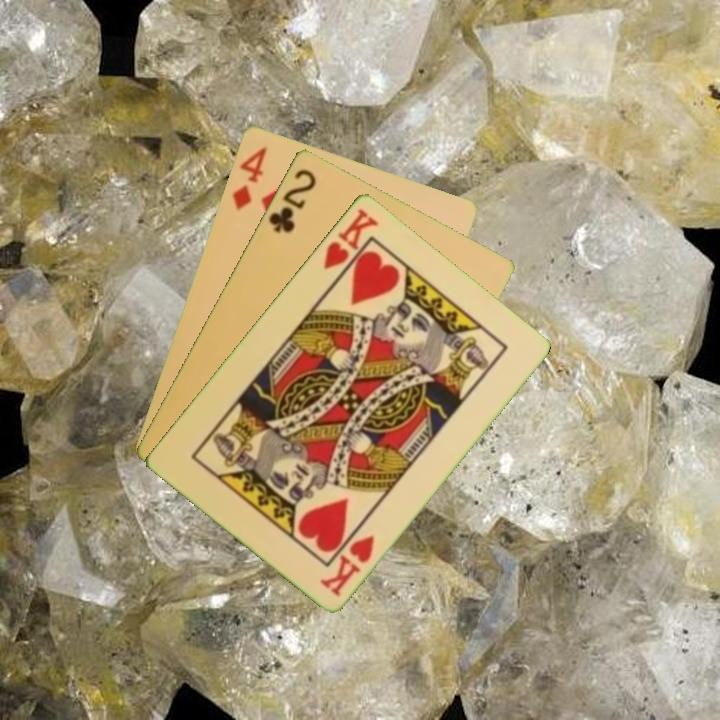2c: (264, 164, 319, 236)
4d: (228, 142, 270, 213)
Kh: (319, 204, 381, 285), (315, 531, 378, 599)
